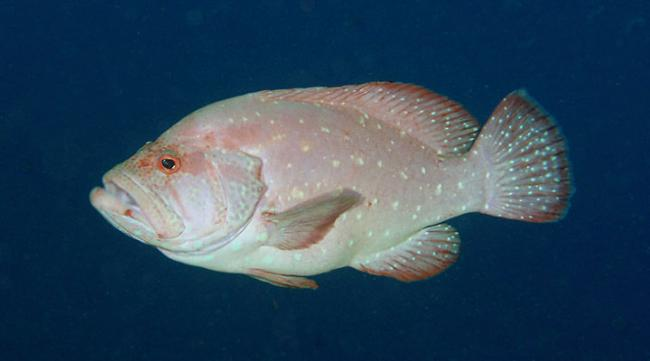fish: (88, 80, 576, 291)
